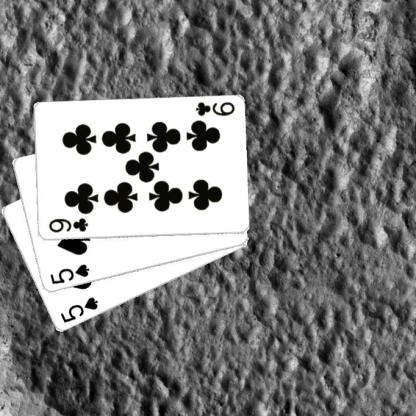5S: (58, 294, 100, 324), (47, 262, 90, 286)
9C: (192, 99, 236, 118), (46, 216, 89, 234)
